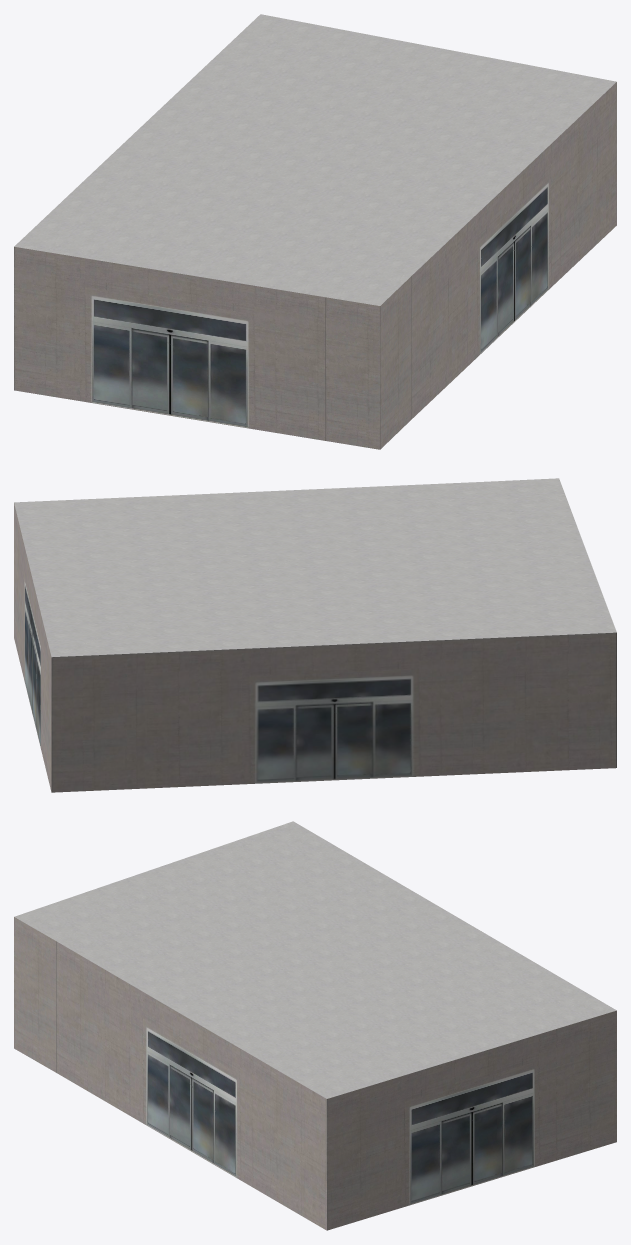
The picture shows the model from 3 angles, top to bottom: view 1: azimuth 30°, elevation 25°; view 2: azimuth 150°, elevation 25°; view 3: azimuth 270°, elevation 25°; orthographic projection. The views are drawn at different scales.
Visible parts, largest first — view 1: BuildingMaster_1998193503144461711900000000_1, BuildingMaster_1998193503144461711900000000_0; view 2: BuildingMaster_1998193503144461711900000000_1, BuildingMaster_1998193503144461711900000000_0; view 3: BuildingMaster_1998193503144461711900000000_1, BuildingMaster_1998193503144461711900000000_0.
Boxes of the visible parts, x1,y1,x2,y2 form: BuildingMaster_1998193503144461711900000000_1: (14, 14, 616, 305); BuildingMaster_1998193503144461711900000000_0: (14, 82, 616, 449); BuildingMaster_1998193503144461711900000000_1: (14, 478, 616, 657); BuildingMaster_1998193503144461711900000000_0: (14, 503, 616, 792); BuildingMaster_1998193503144461711900000000_1: (14, 821, 616, 1098); BuildingMaster_1998193503144461711900000000_0: (14, 917, 616, 1230).
Size of the model in its own units: 15.84 by 3.5 by 14.53.
2 materials, 2 textured.
